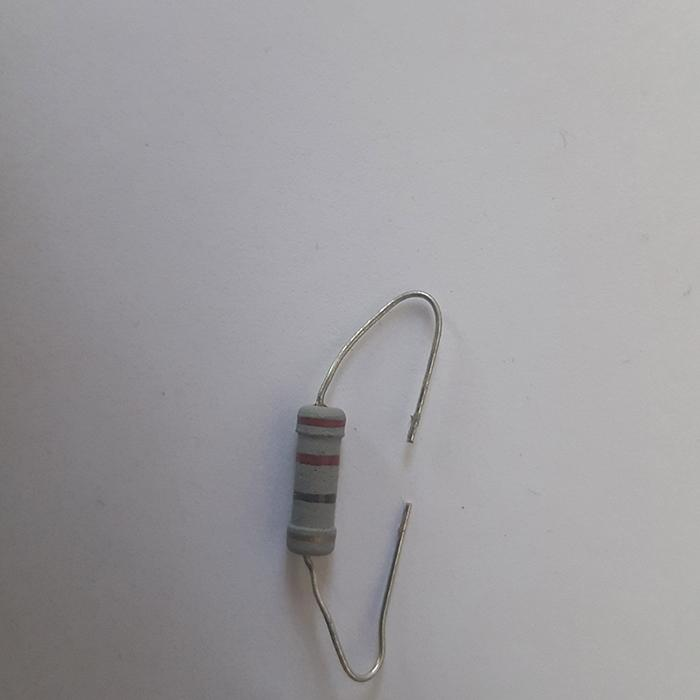resistor: (285, 403, 347, 560)
